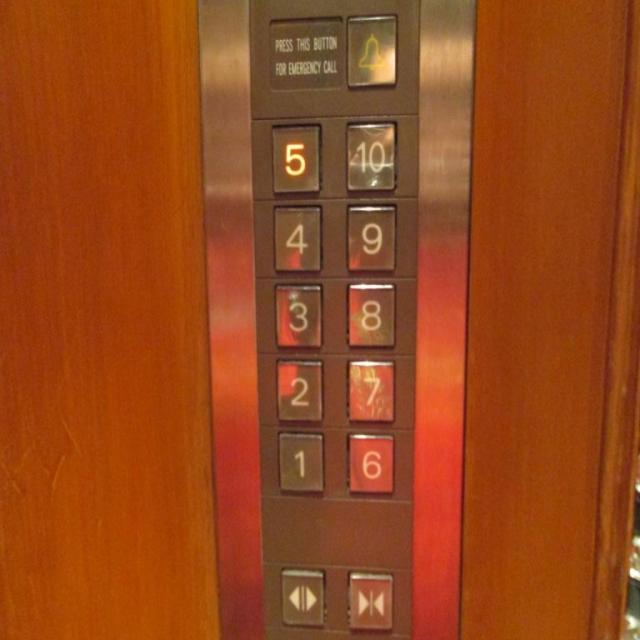1: (276, 430, 326, 495)
10: (342, 117, 397, 193)
2: (272, 356, 324, 422)
3: (272, 281, 324, 348)
4: (272, 204, 322, 272)
5: (269, 118, 323, 195)
6: (346, 432, 396, 496)
7: (344, 355, 396, 424)
8: (344, 279, 398, 348)
9: (344, 202, 399, 272)
alarm: (346, 15, 396, 87)
close: (348, 572, 394, 630)
open: (275, 562, 327, 628)
